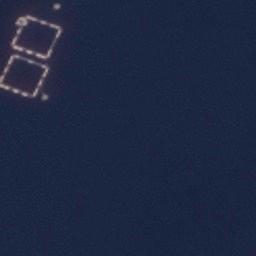square_solid: (9, 13, 63, 61), (1, 54, 50, 102)
